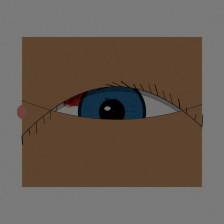hemorrhage_spot: (48, 67, 127, 130)
